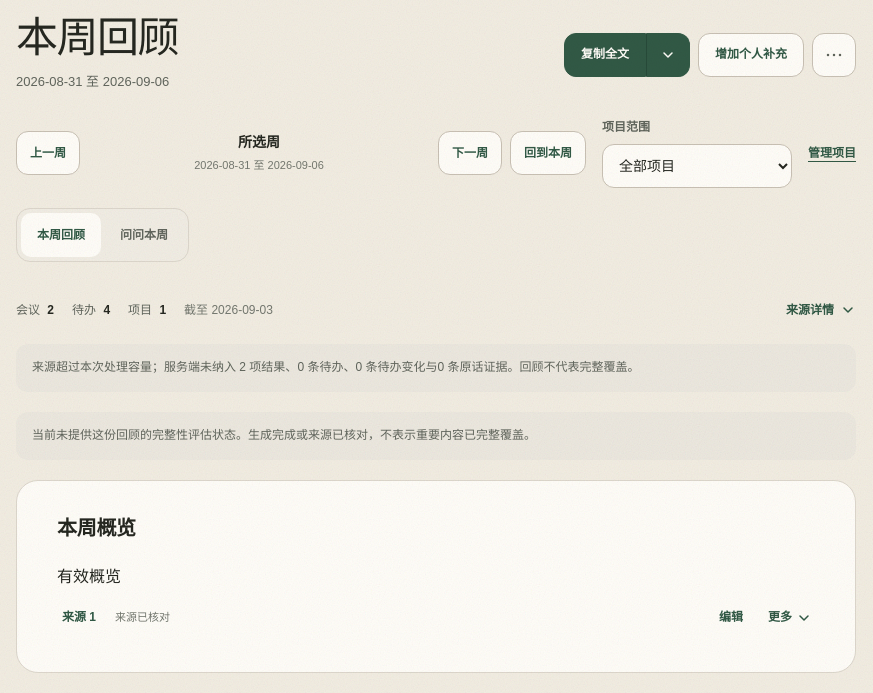
Weekly reading layout interactions › collapses detailed statistics while keeping omitted-source information visible
The width and height of the screenshot is (873, 693).
Check: the text "有效概览" is shown, box [57,568,121,585]
Check: the text "来源超过本次处理容量；服务端未纳入 2 项结果、0 条待办、0 条待办变化与0 条原话证据。回顾不代表完整覆盖。" is shown, box [16,344,856,392]
What coordinates should you click on to do the following:
click the text "来源详情"
I would click on:
 (821, 310)
Its box is [786,301,856,319].
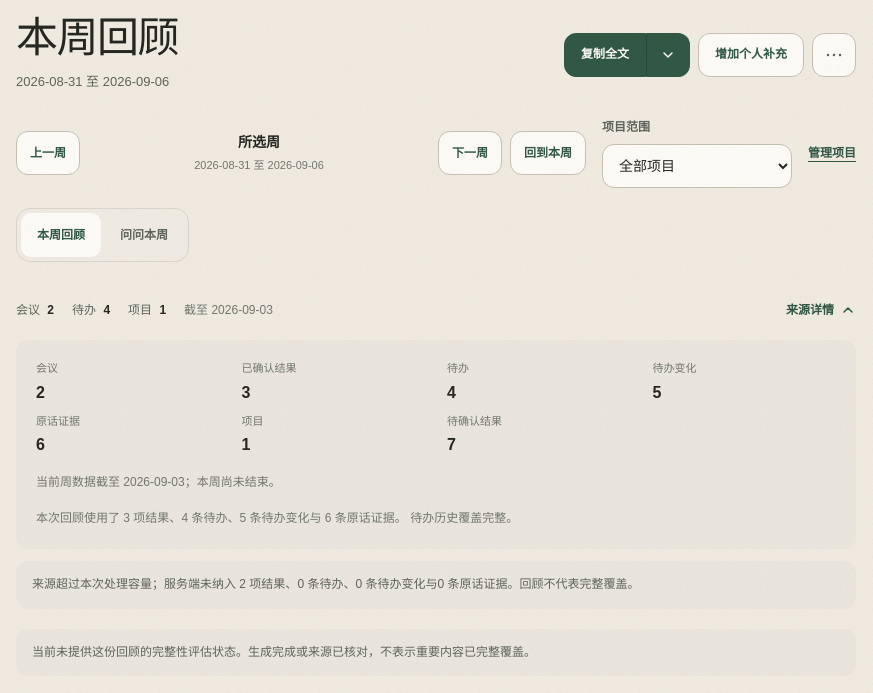
Check: the text "原话证据" is shown, box [36,415,80,427]
Check: the text "待确认结果" is shown, box [447,415,502,427]
